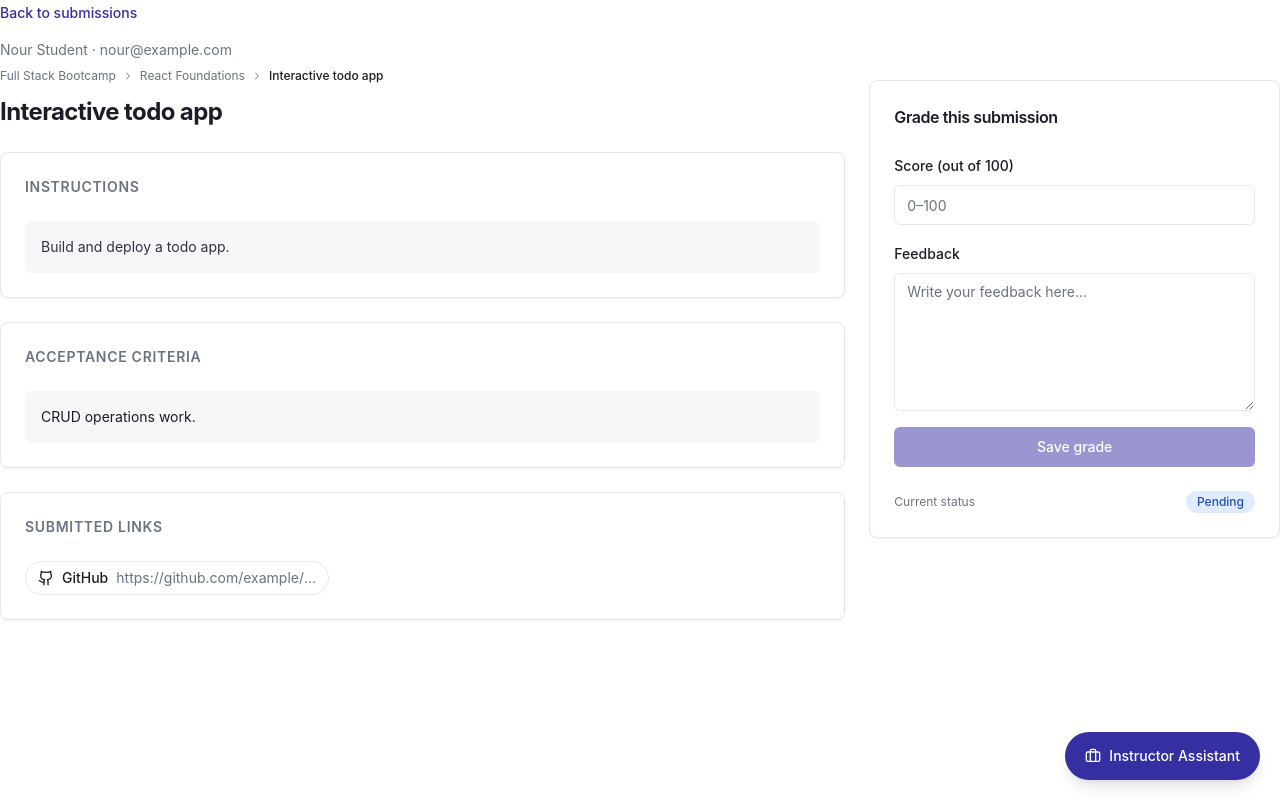
ReviewSubmissionPage › uses the course resolved by loaded review data for the Instructor Assistant
Expected: the text "Nour Student · nour@example.com" is shown, [0,41,232,58]
Click the button with aria-label "Open Instructor Assistant" at (1163, 756), box [1065,732,1260,780]
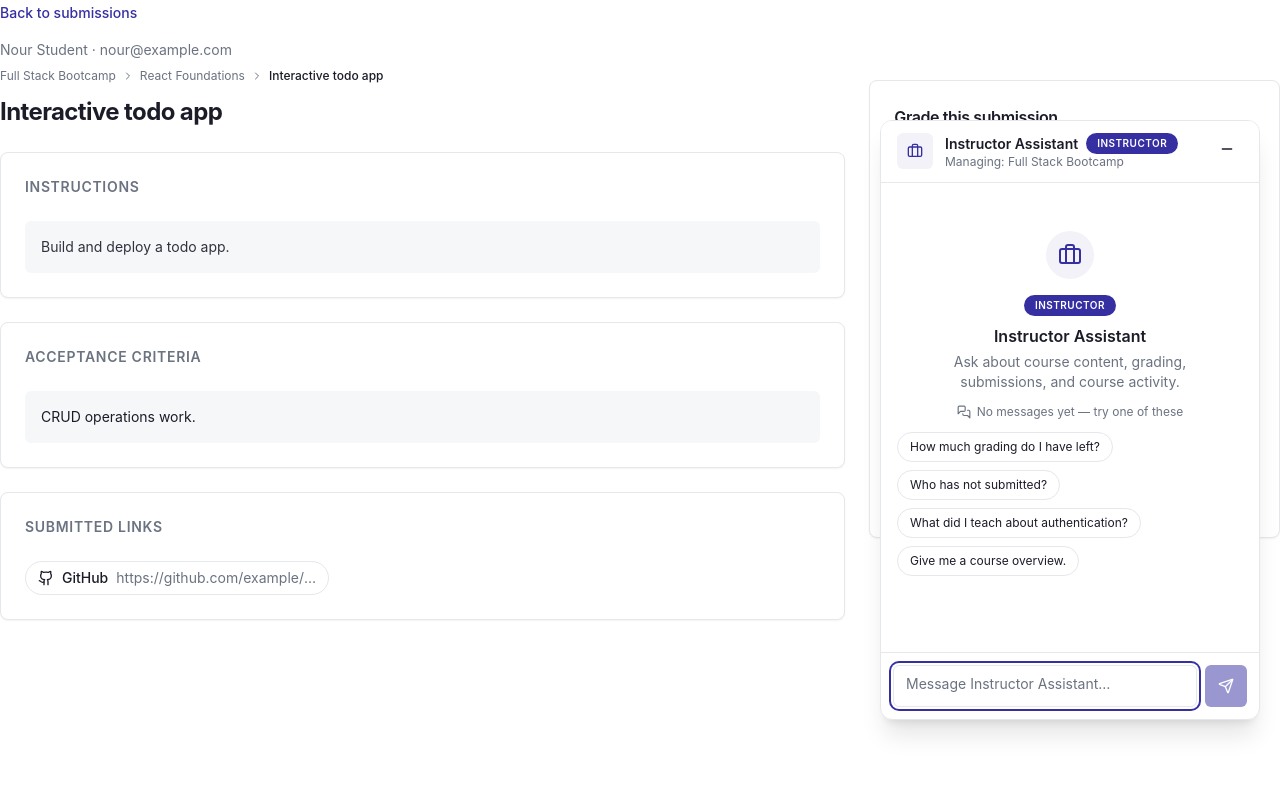
Type "What needs grading?" into the text box labelled "Message Instructor Assistant" at (1045, 686), box [893,665,1197,707]
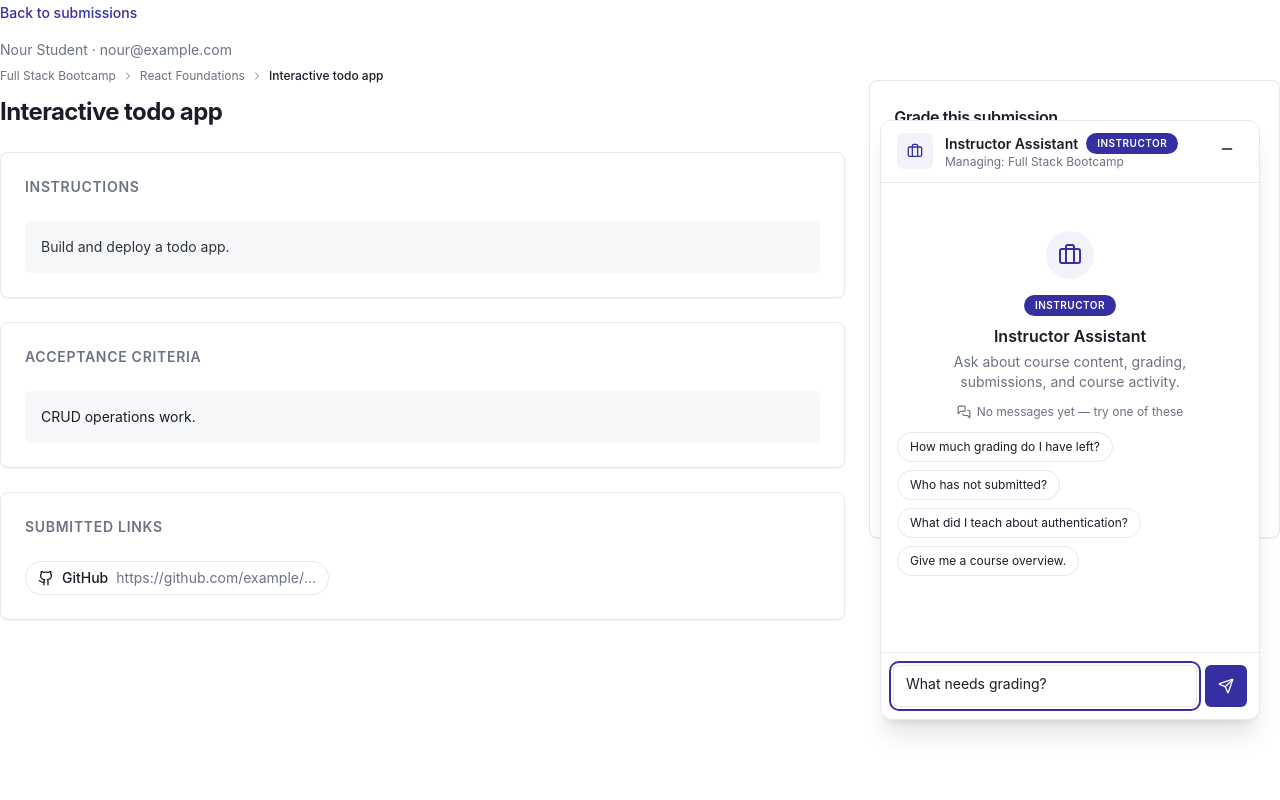
Click the button named "Send message" at (1226, 686), box [1205,665,1247,707]
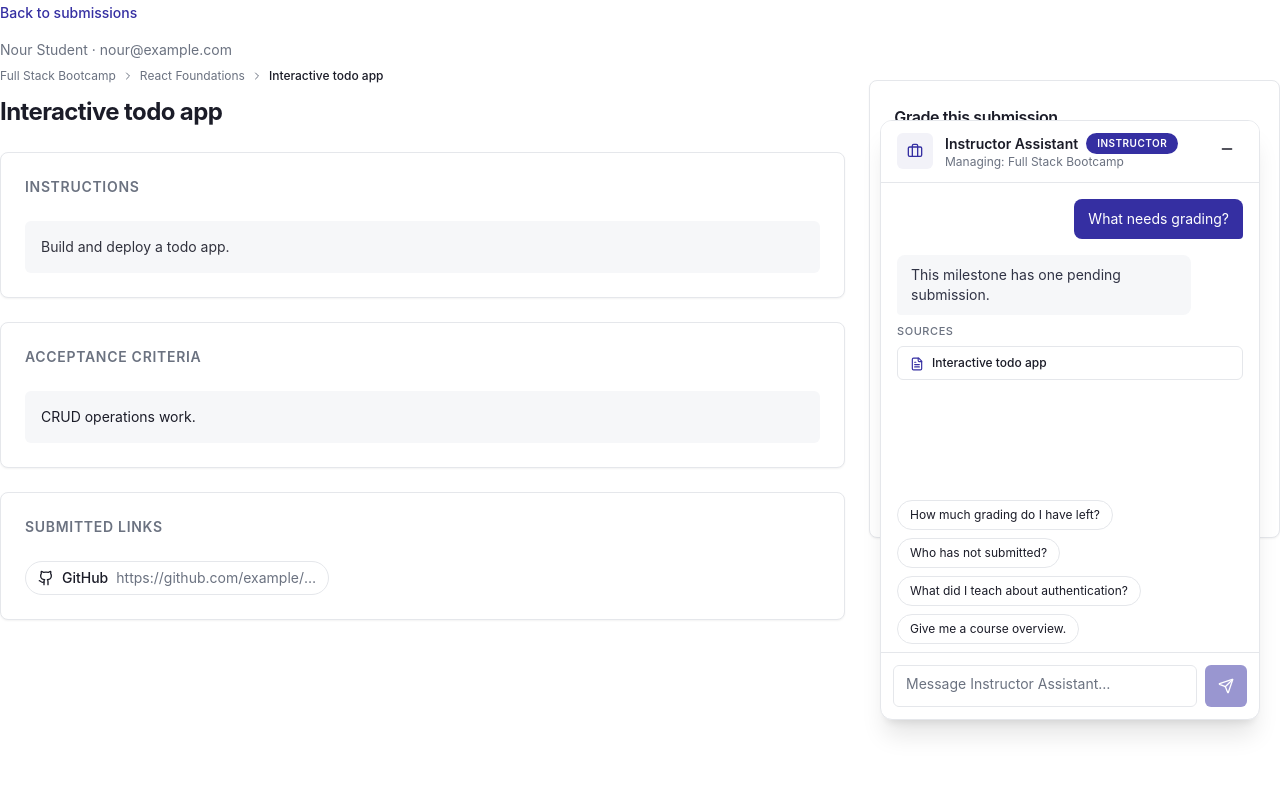
Expected: the text "This milestone has one pending submission." is shown, [897,255,1191,315]
